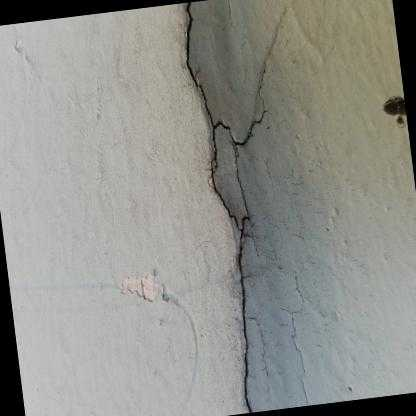crack: (183, 1, 267, 413)
